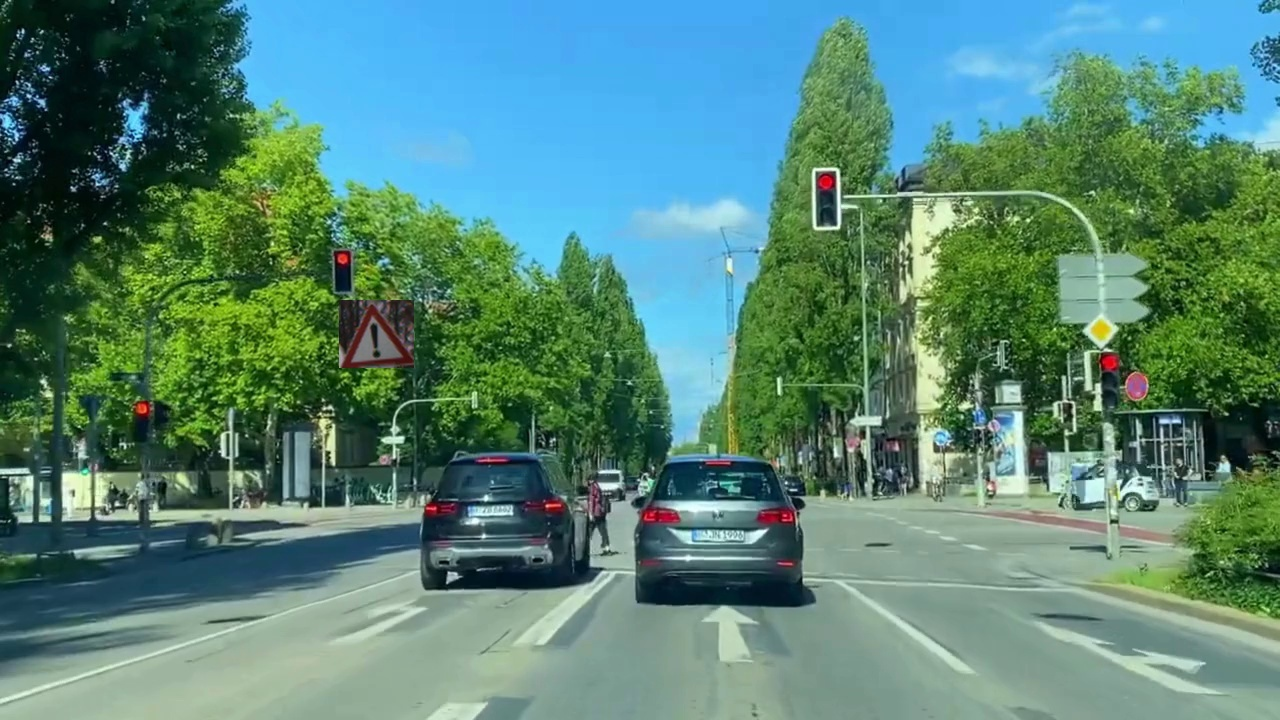Caution: (339, 300, 414, 368)
